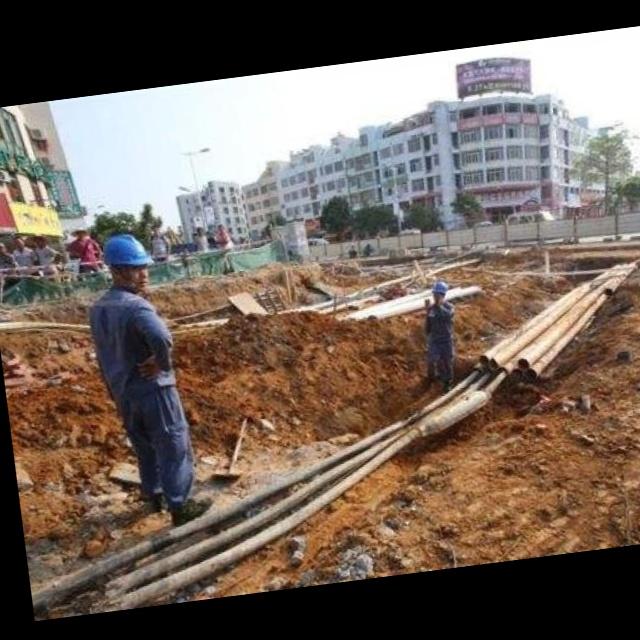Con_Casco: (100, 230, 154, 294)
